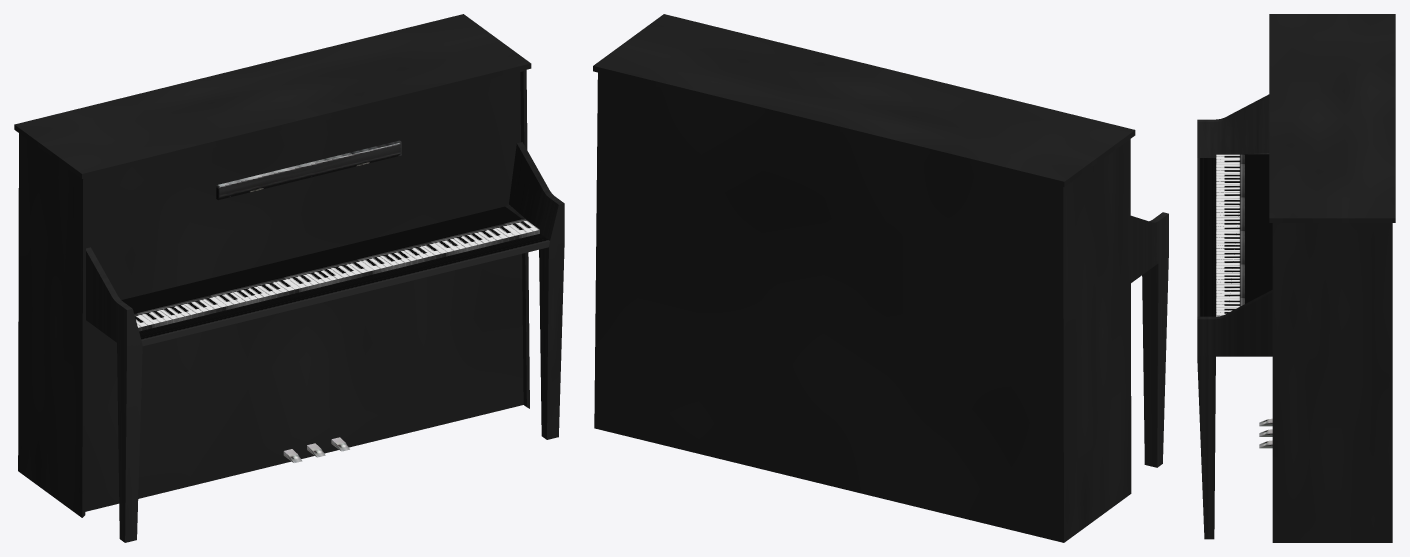
Rendered from piano.fbx.
3 views of the same model, side by side, from view 1: azimuth 30°, elevation 25°; view 2: azimuth 150°, elevation 25°; view 3: azimuth 270°, elevation 25° (orthographic). The views are drawn at different scales.
Parts seen in each view (by area): view 1: pCube7; view 2: pCube7; view 3: pCube7.
Boxes of the visible parts, left/top/right/bottom form: pCube7: left=14, top=14, right=564, bottom=542; pCube7: left=593, top=14, right=1168, bottom=542; pCube7: left=1197, top=14, right=1395, bottom=542.
Size of the model in its own units: 17.93 by 13.21 by 7.33.
